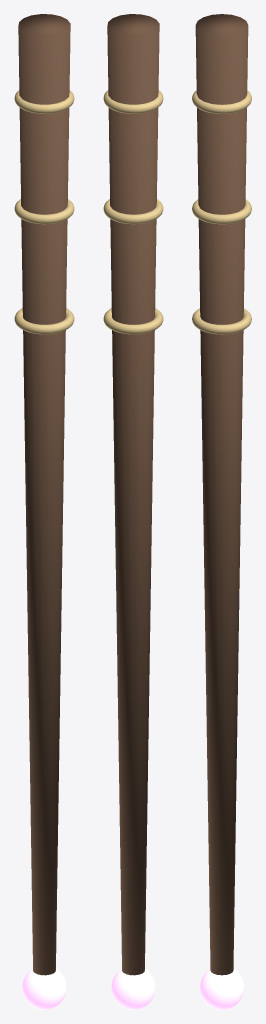
The model's file is arcane_wand.gltf.
3 views of the same model, side by side, from view 1: azimuth 30°, elevation 25°; view 2: azimuth 210°, elevation 25°; view 3: azimuth 270°, elevation 25° (orthographic).
Visible parts, largest first — view 1: Shaft, Gem, Band0.05, Band0.08, Band0.11; view 2: Shaft, Gem, Band0.05, Band0.08, Band0.11; view 3: Shaft, Gem, Band0.05, Band0.08, Band0.11.
Part boxes in pixels (box(x1,y1,x2,y2)): Shaft: box(18, 14, 70, 975); Gem: box(22, 969, 66, 1009); Band0.05: box(14, 308, 74, 334); Band0.08: box(14, 199, 74, 224); Band0.11: box(14, 90, 74, 113); Shaft: box(107, 14, 159, 975); Gem: box(111, 969, 155, 1009); Band0.05: box(103, 308, 163, 334); Band0.08: box(103, 199, 163, 224); Band0.11: box(103, 90, 163, 113); Shaft: box(195, 14, 248, 975); Gem: box(199, 969, 244, 1009); Band0.05: box(192, 308, 251, 334); Band0.08: box(192, 199, 251, 224); Band0.11: box(192, 90, 251, 113).
Bounding box in the file's own units: 0.0148 × 0.2675 × 0.0148.
